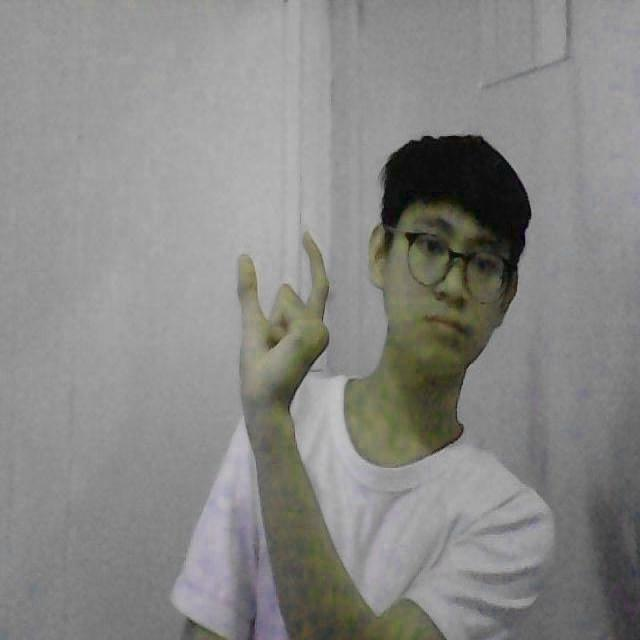U: (212, 228, 350, 364)
